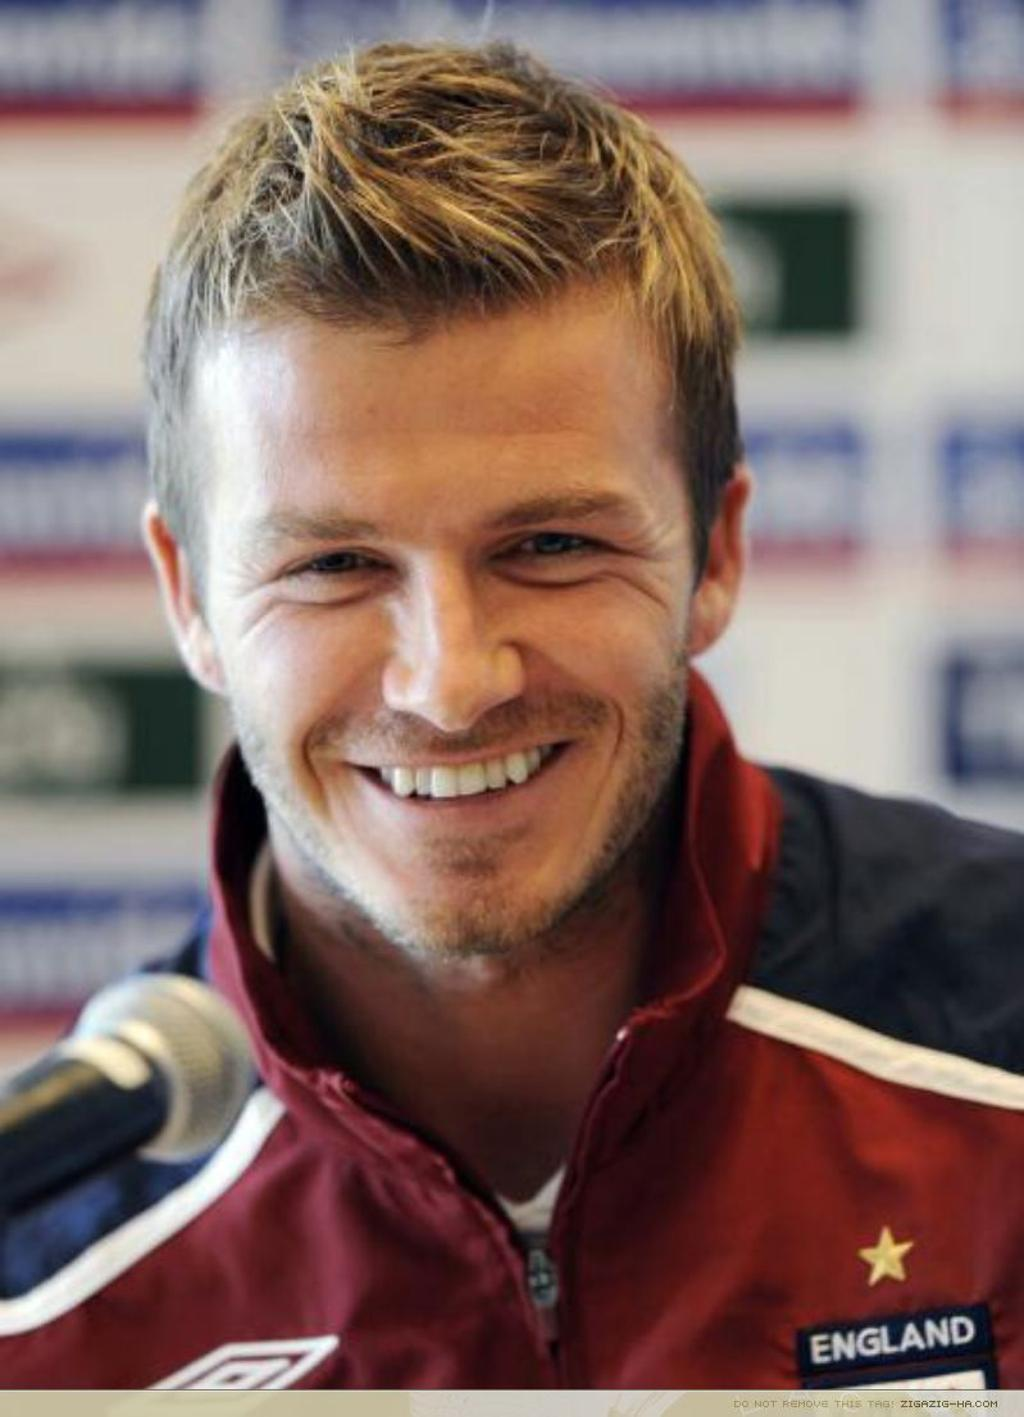face: (203, 297, 698, 958)
